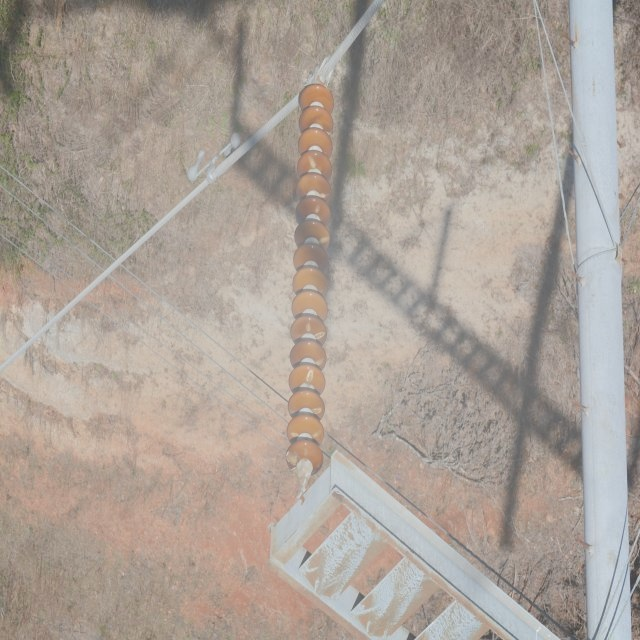insulator: (284, 85, 335, 476)
